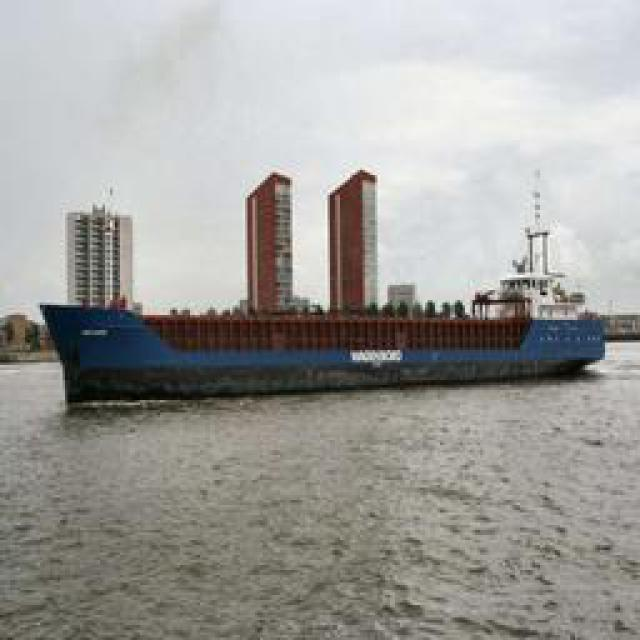Ship: (51, 279, 609, 399)
